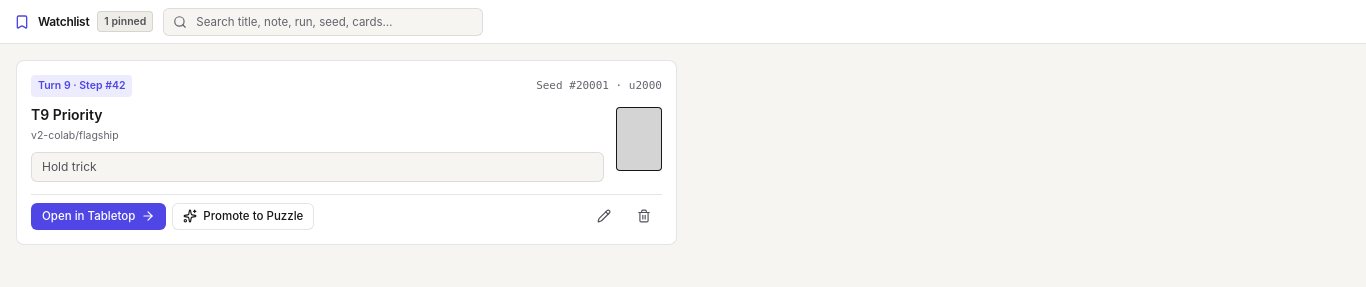
Test case: BenchmarksView and App routing › shows Promote to Puzzle status for 422 rejection and 200 admission on Watchlist cards
The width and height of the screenshot is (1366, 287).
Click the button "Promote to Puzzle" at point(243, 216), box x1=172 y1=203 x2=314 y2=230
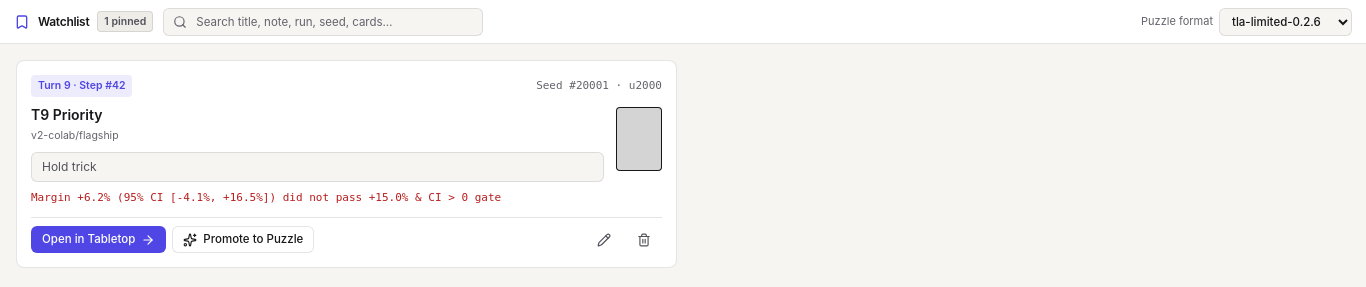
Expected: the text "did not pass +15.0% & CI > 0 gate" is shown, x1=31 y1=191 x2=501 y2=204
Click the button "Promote to Puzzle" at point(243, 240), box x1=172 y1=226 x2=314 y2=253
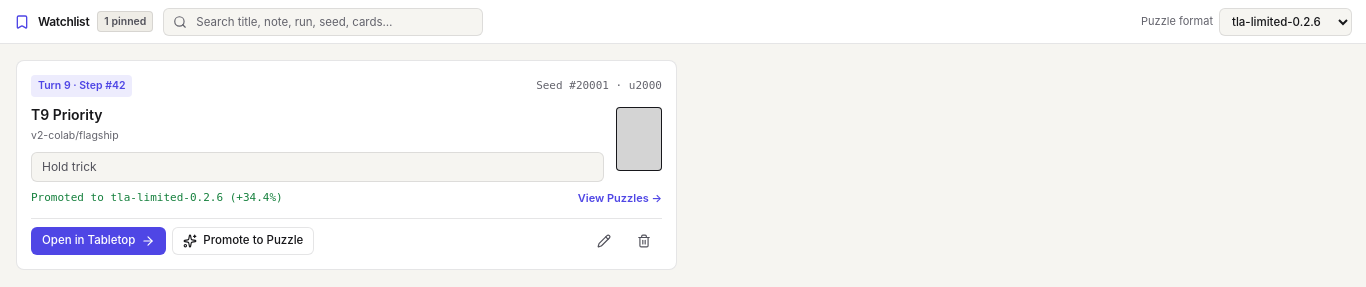
Expected: the text "Promoted to tla-limited-0.2.6 (+34.4%)" is shown, x1=31 y1=190 x2=283 y2=206
